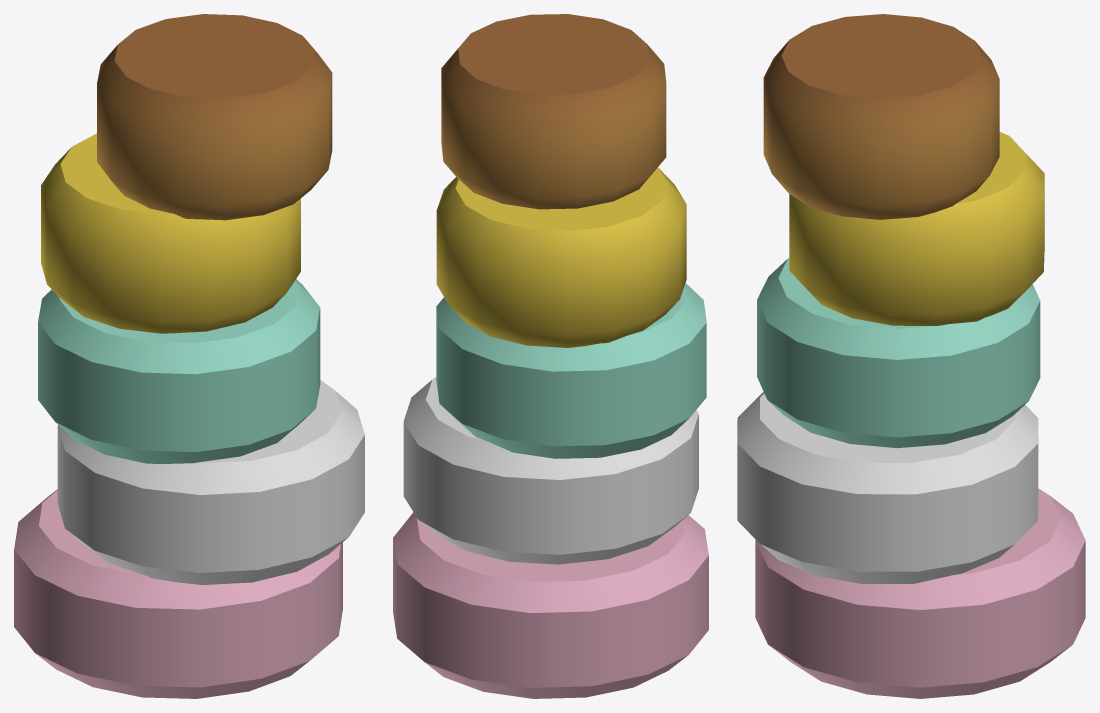
Rendered from marshmallow_stack.glb.
The picture shows the model from 3 angles, left to right: view 1: azimuth 30°, elevation 25°; view 2: azimuth 150°, elevation 25°; view 3: azimuth 270°, elevation 25°; orthographic projection. The views are drawn at different scales.
Parts seen in each view (by area): view 1: marshmallow_stack; view 2: marshmallow_stack; view 3: marshmallow_stack.
Part boxes in pixels (left/top/right/bottom): marshmallow_stack: left=14, top=14, right=364, bottom=698; marshmallow_stack: left=393, top=14, right=708, bottom=698; marshmallow_stack: left=737, top=14, right=1085, bottom=698.
Size of the model in its own units: 0.8501 by 1.66 by 0.8861.
